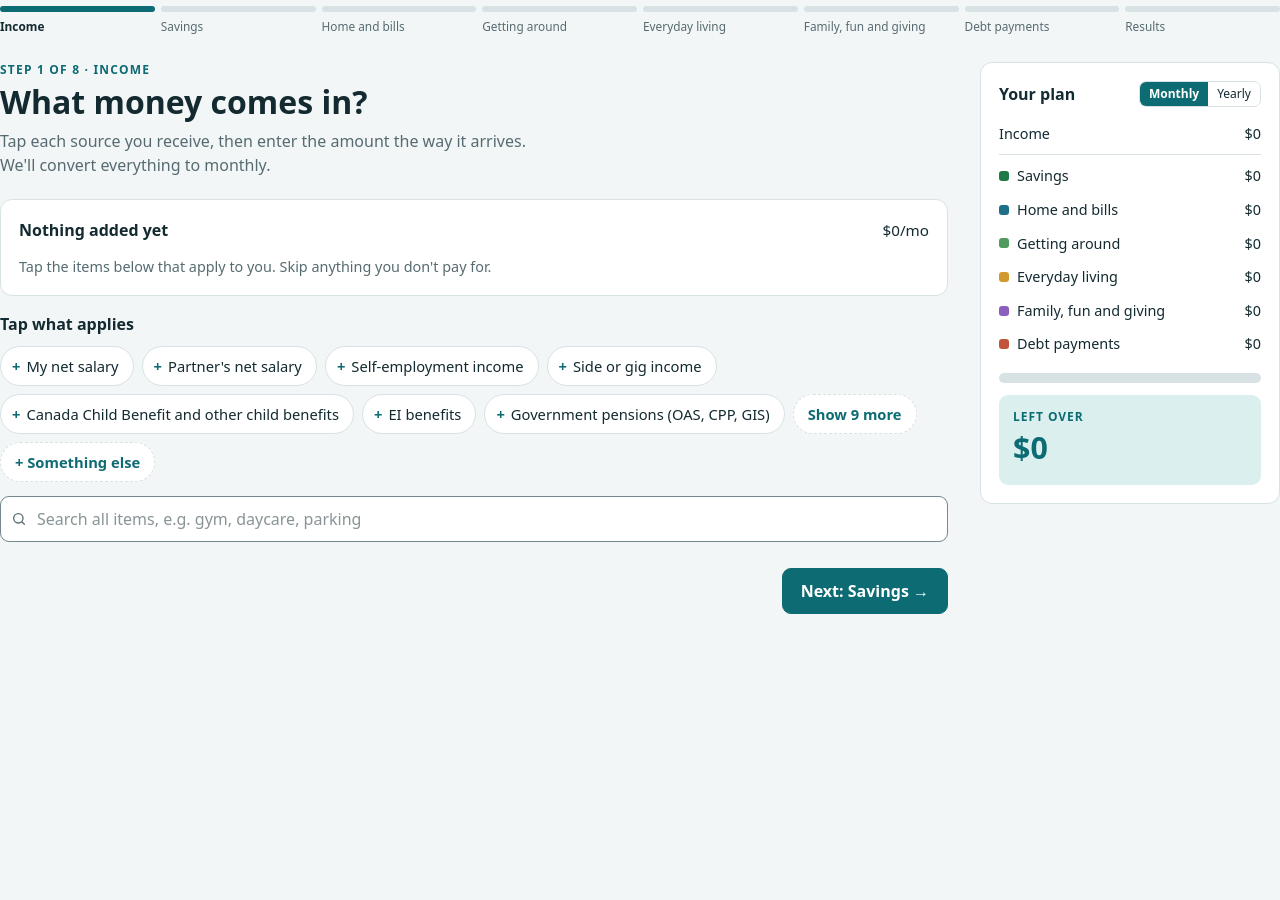
Test case: BudgetApp › loads the results charts on demand
This screenshot has width=1280, height=900.
Click the button with aria-label "Add My net salary": x=67, y=366 x1=0 y1=346 x2=134 y2=386
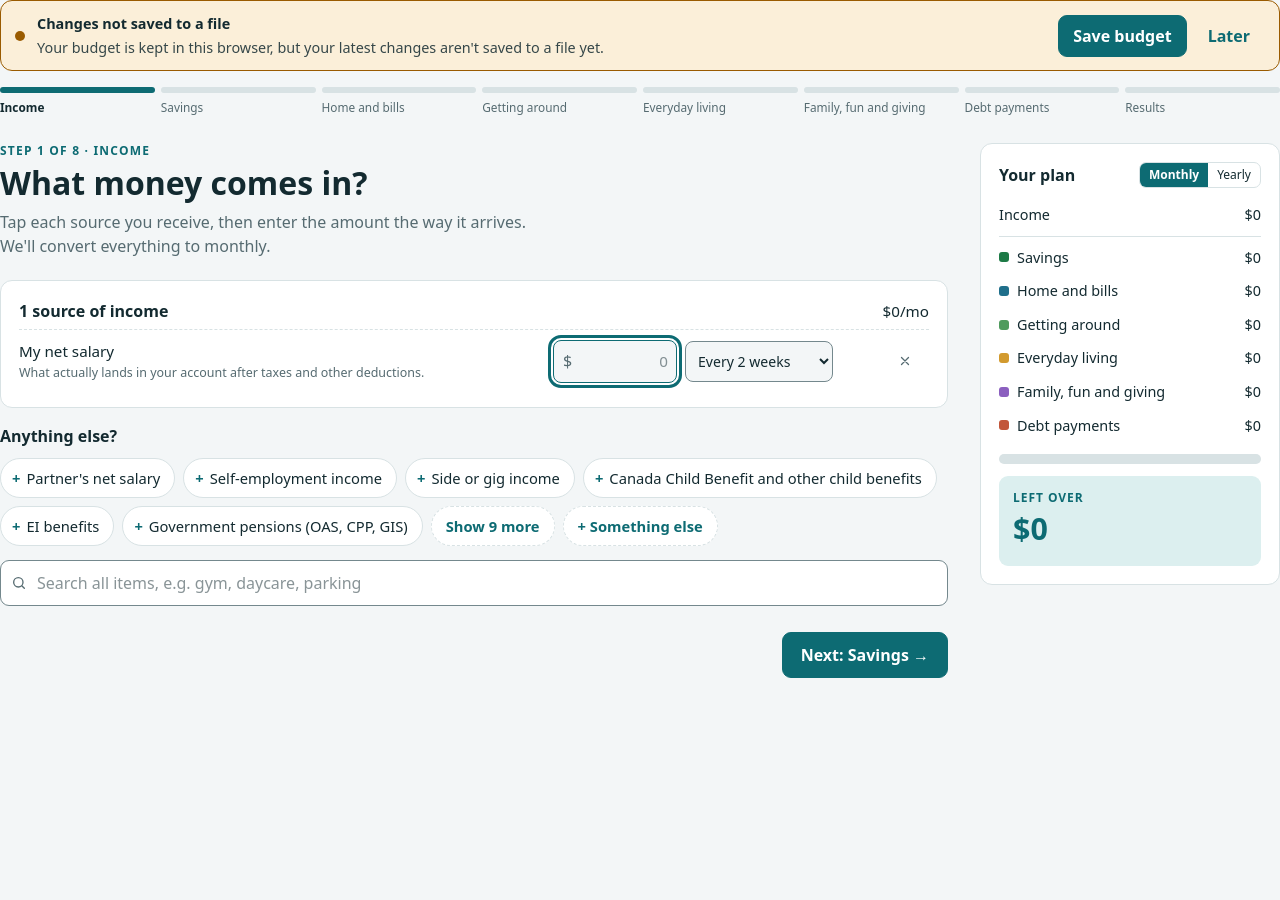
In the field named "My net salary amount": x=615, y=361 x1=553 y1=340 x2=677 y2=383, type "3000"
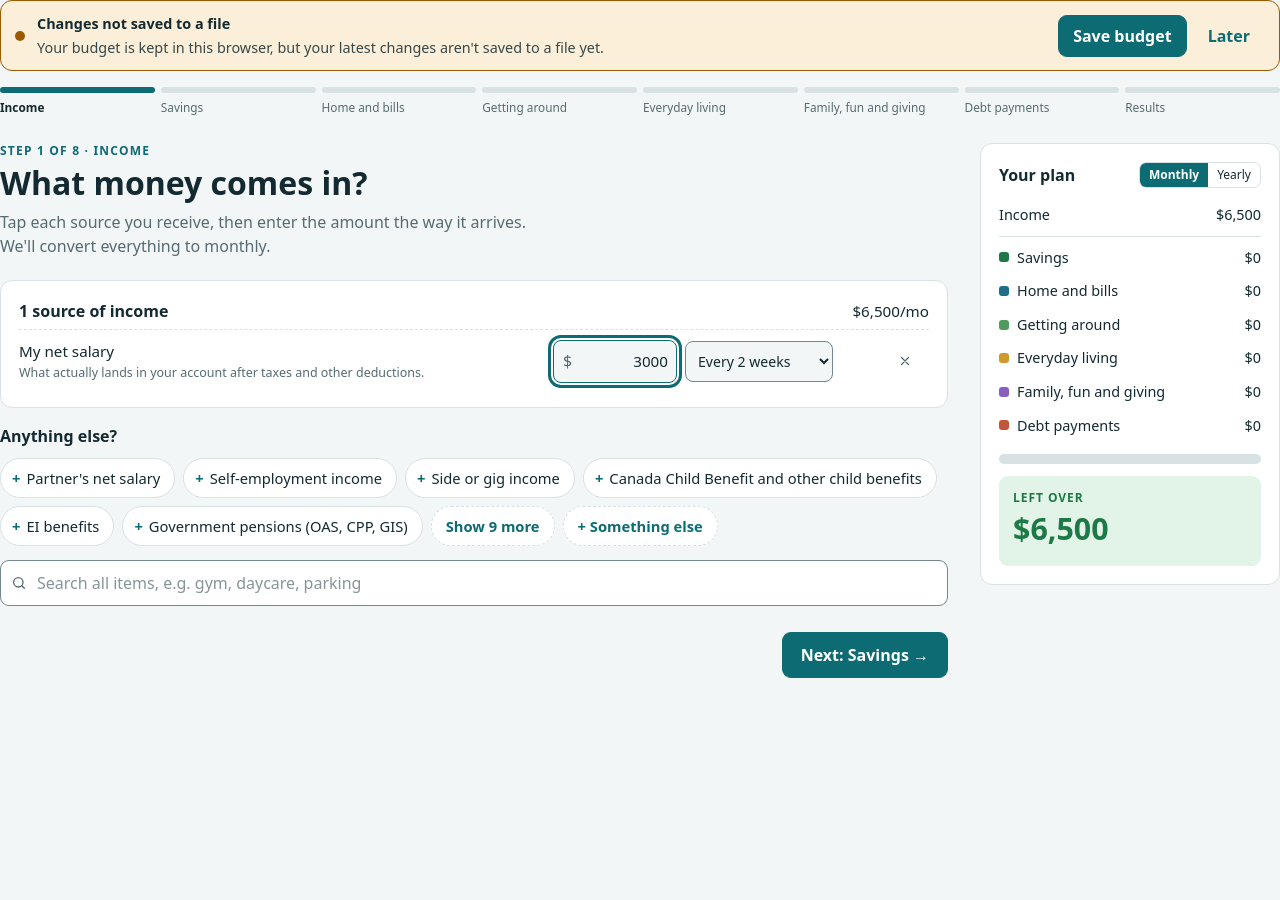
Click the button "Results": x=1203, y=102 x1=1125 y1=87 x2=1279 y2=117
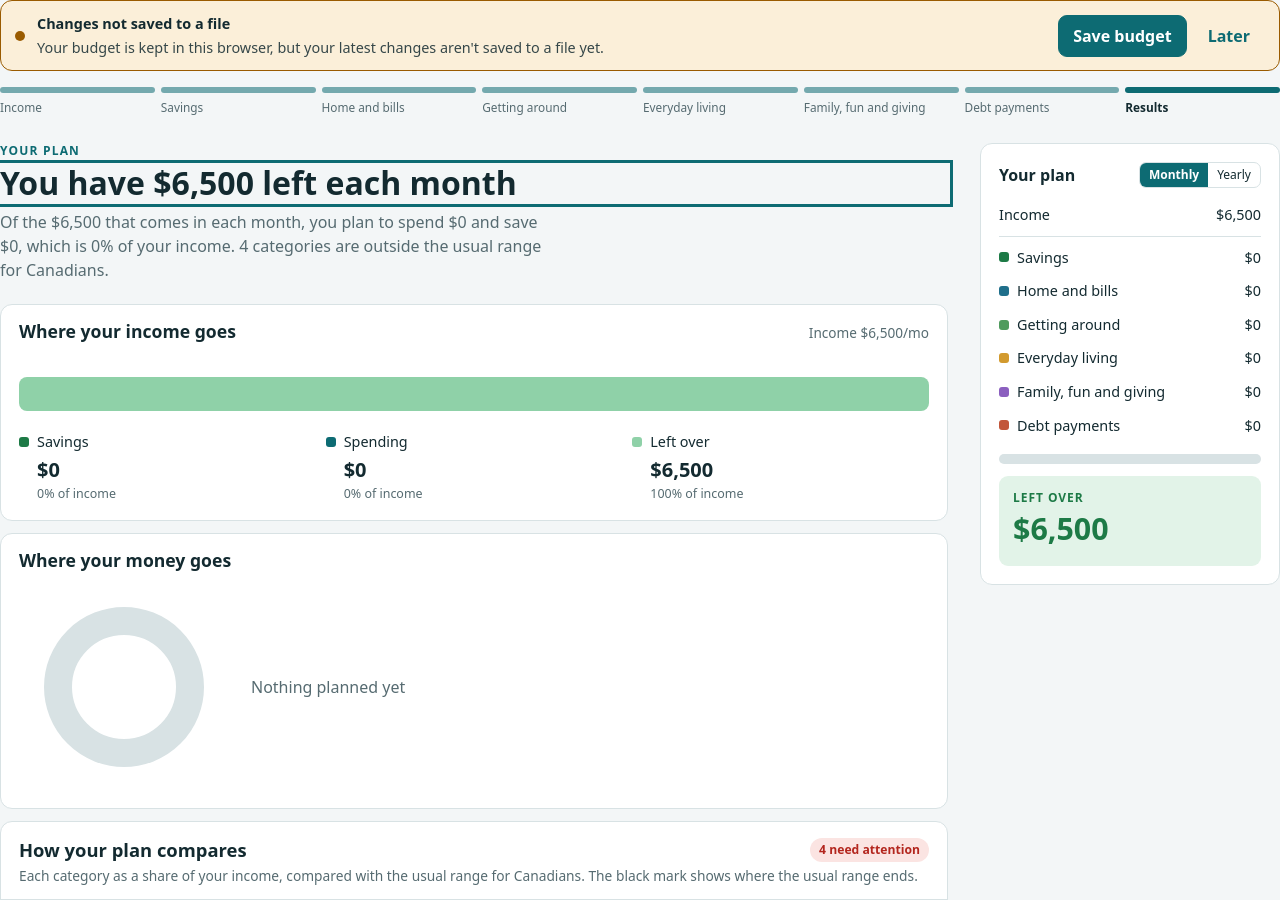
Result: the element "Where your income goes" is shown at x1=0 y1=304 x2=948 y2=520
